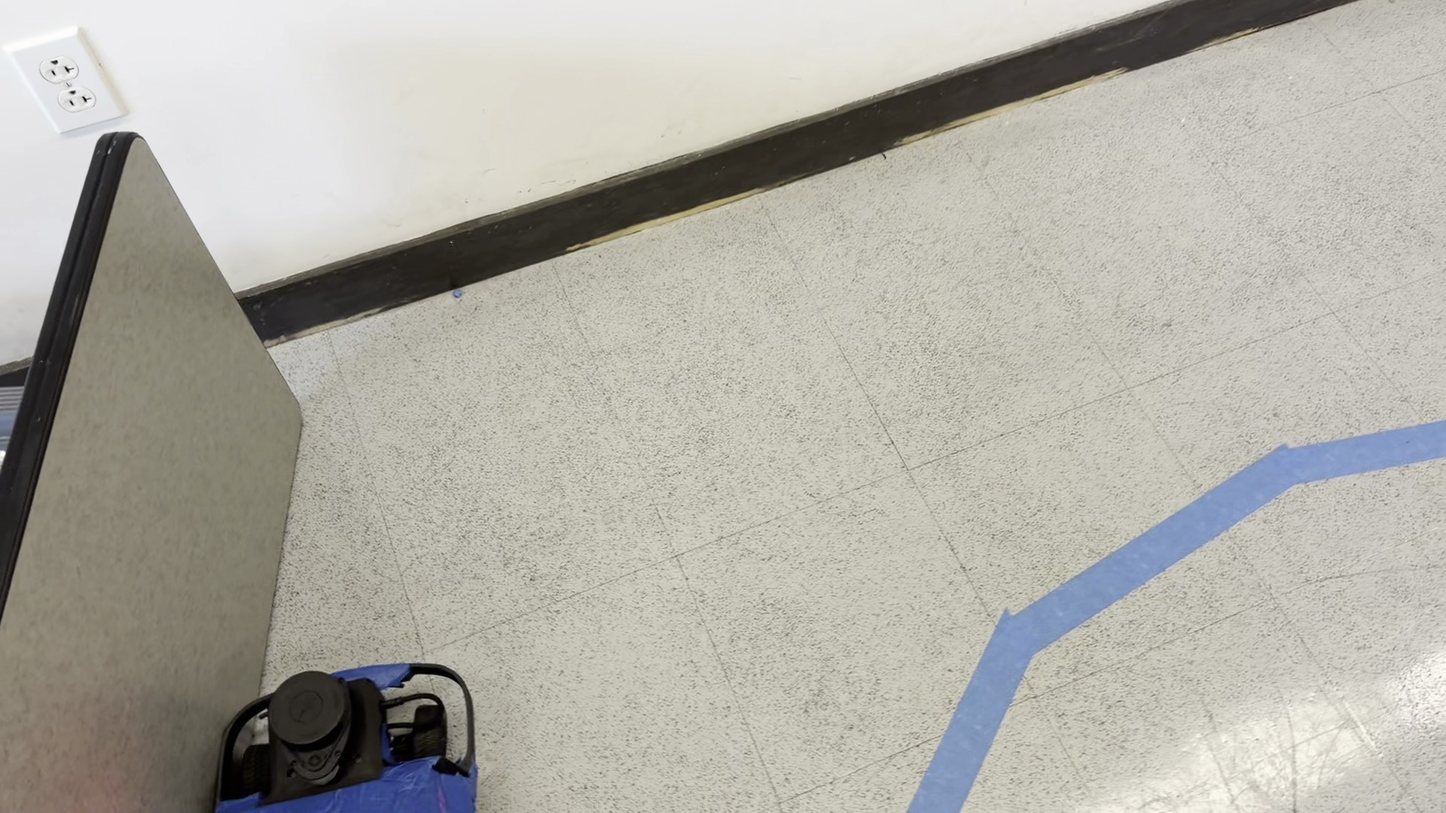racecar: (214, 660, 476, 804)
